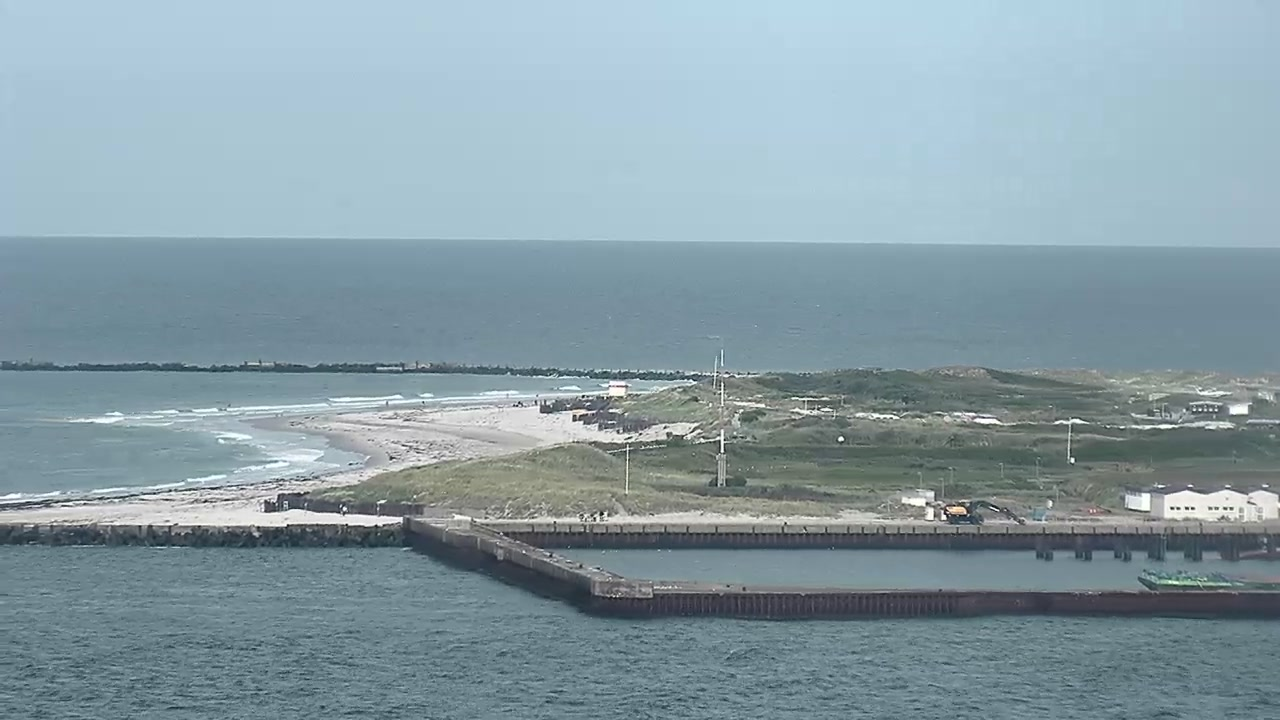human: (340, 503, 347, 516), (598, 510, 604, 522), (385, 399, 389, 407)
land: (942, 498, 1027, 525)
sea: (1135, 566, 1279, 590)
